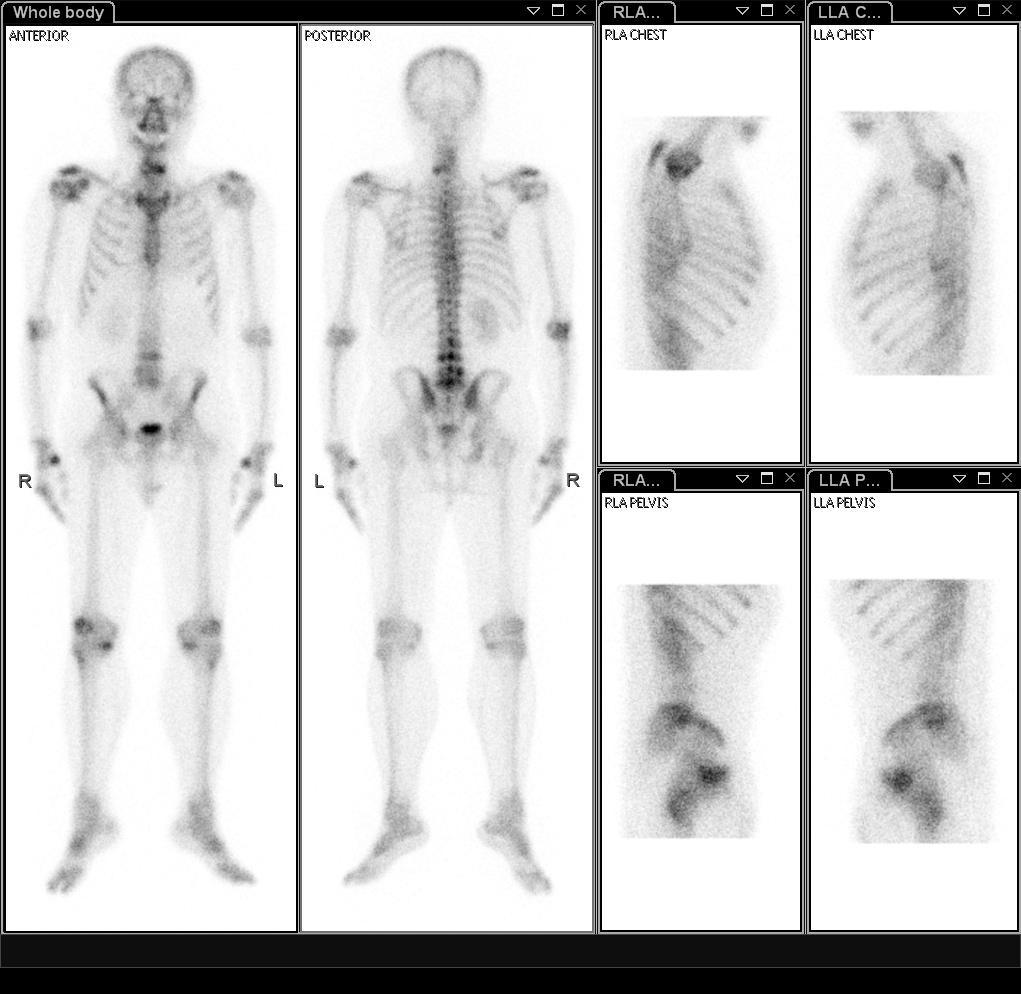person: (3, 25, 593, 929)
